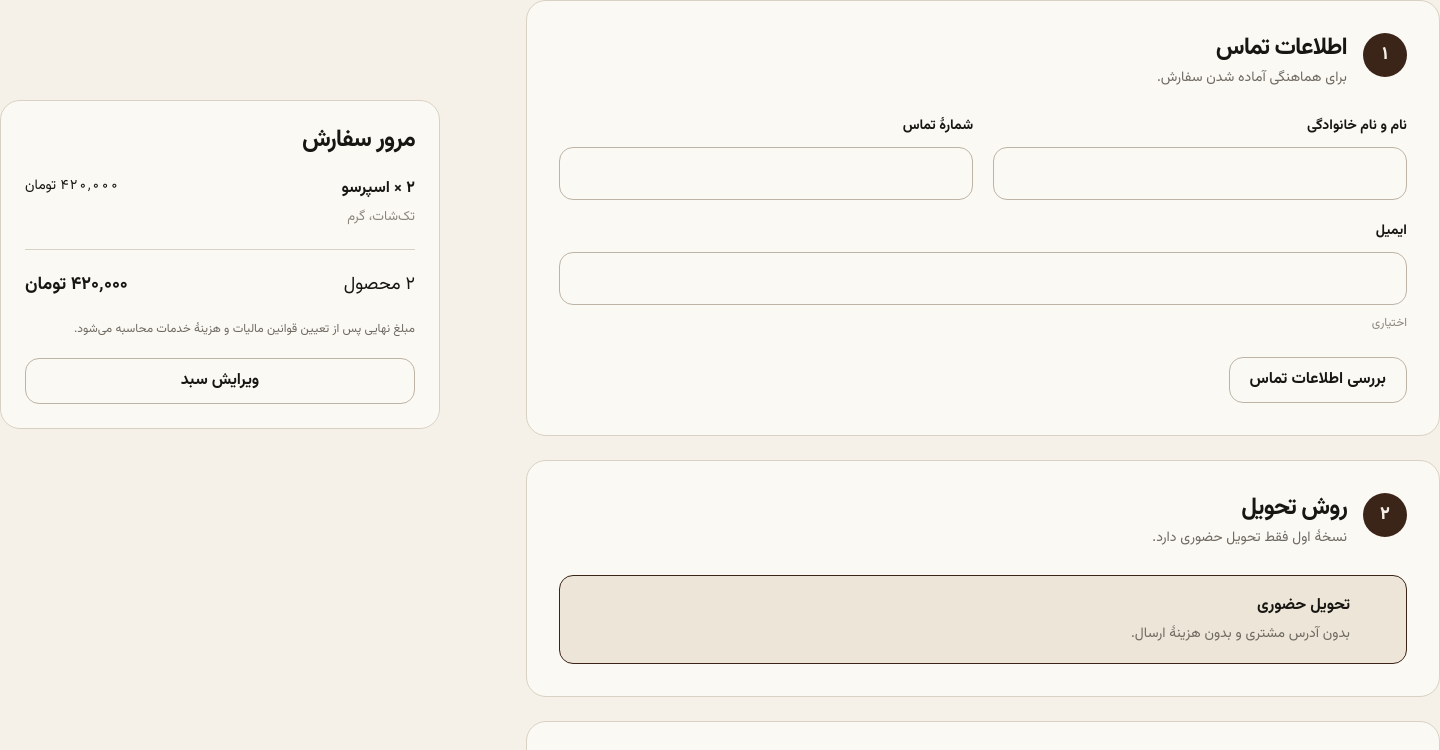
Test case: CheckoutContent › shows accessible field errors for invalid guest contact data
Type "س" into the field labelled "نام و نام خانوادگی" at (1200, 173), box [993, 147, 1407, 200]
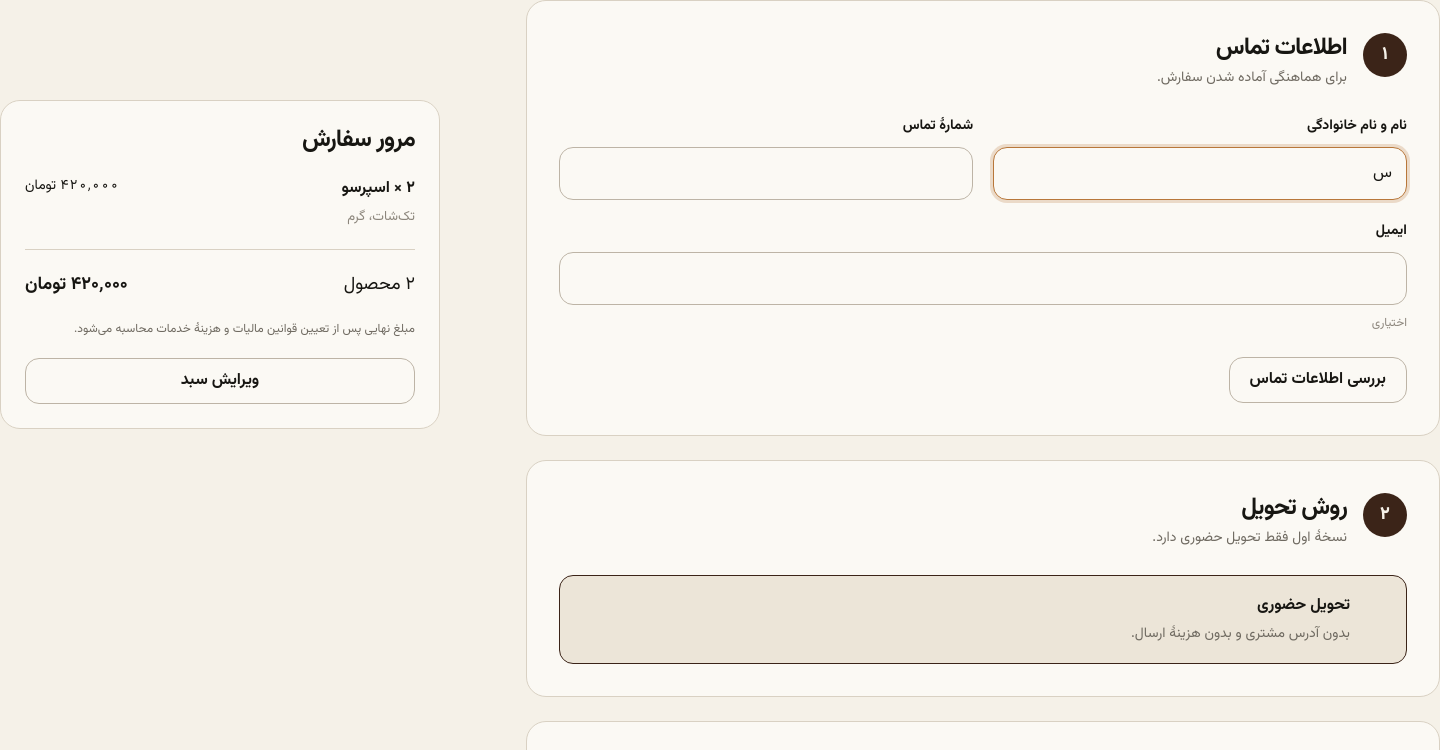
Type "۱۲۳" into the field labelled "شمارهٔ تماس" at (766, 173), box [559, 147, 973, 200]
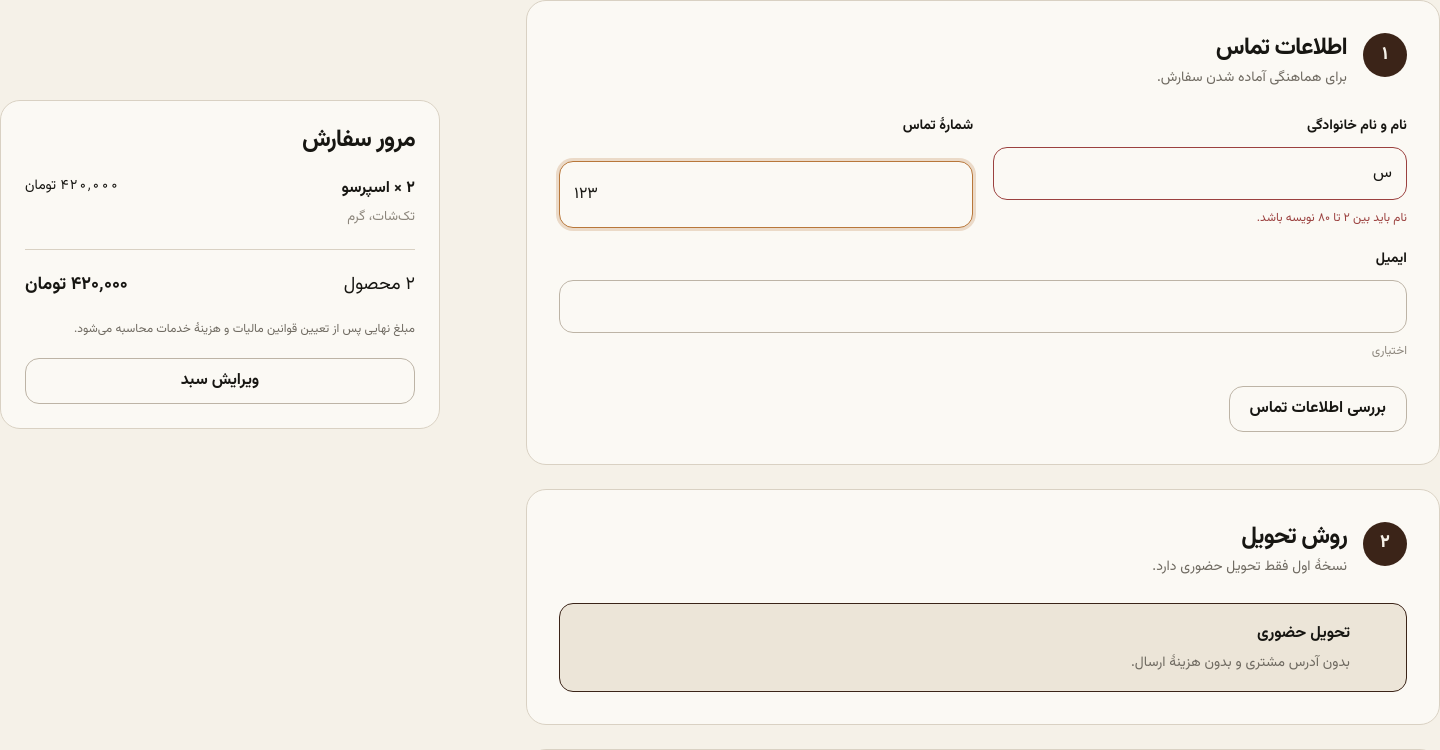
Type "invalid" into the field labelled "ایمیل" at (983, 307), box [559, 280, 1407, 333]
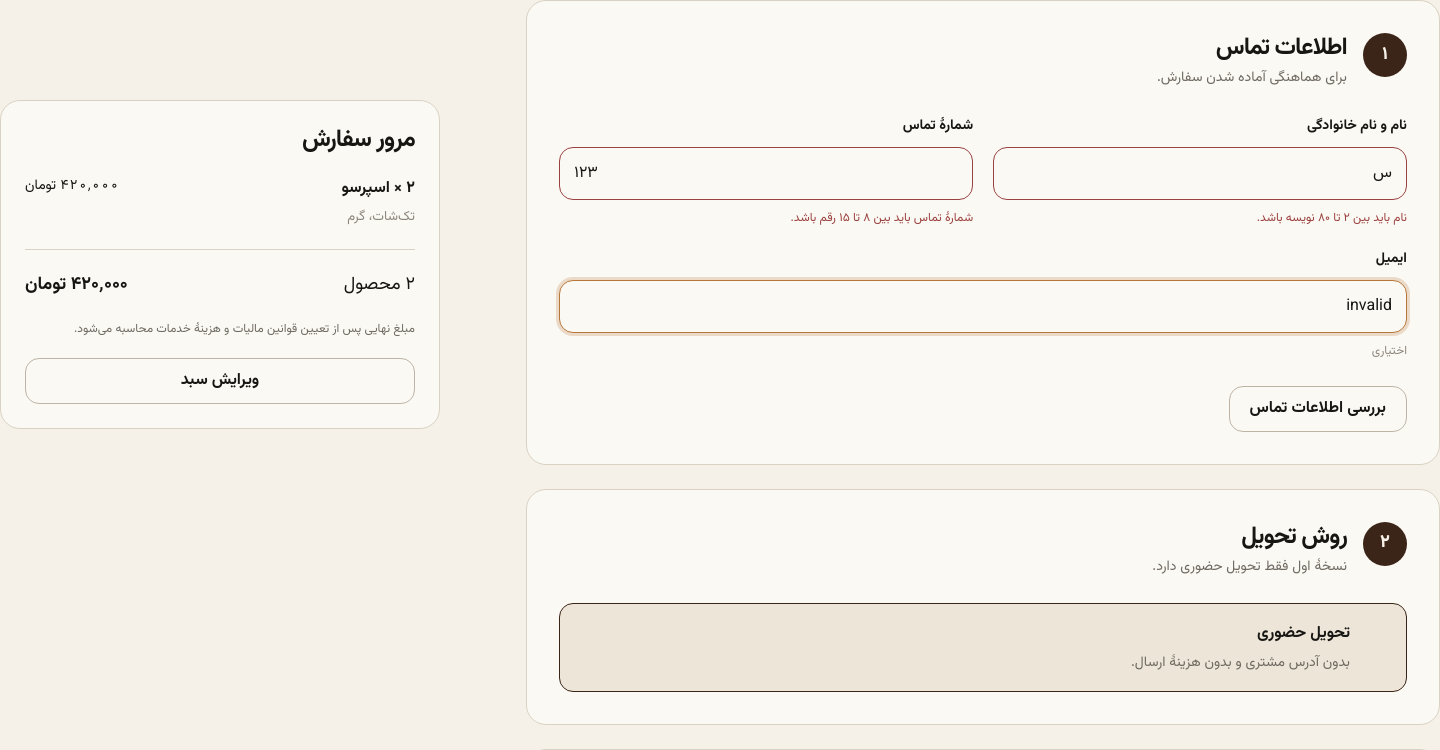
Click the button "بررسی اطلاعات تماس" at (1318, 408), box [1228, 386, 1407, 432]
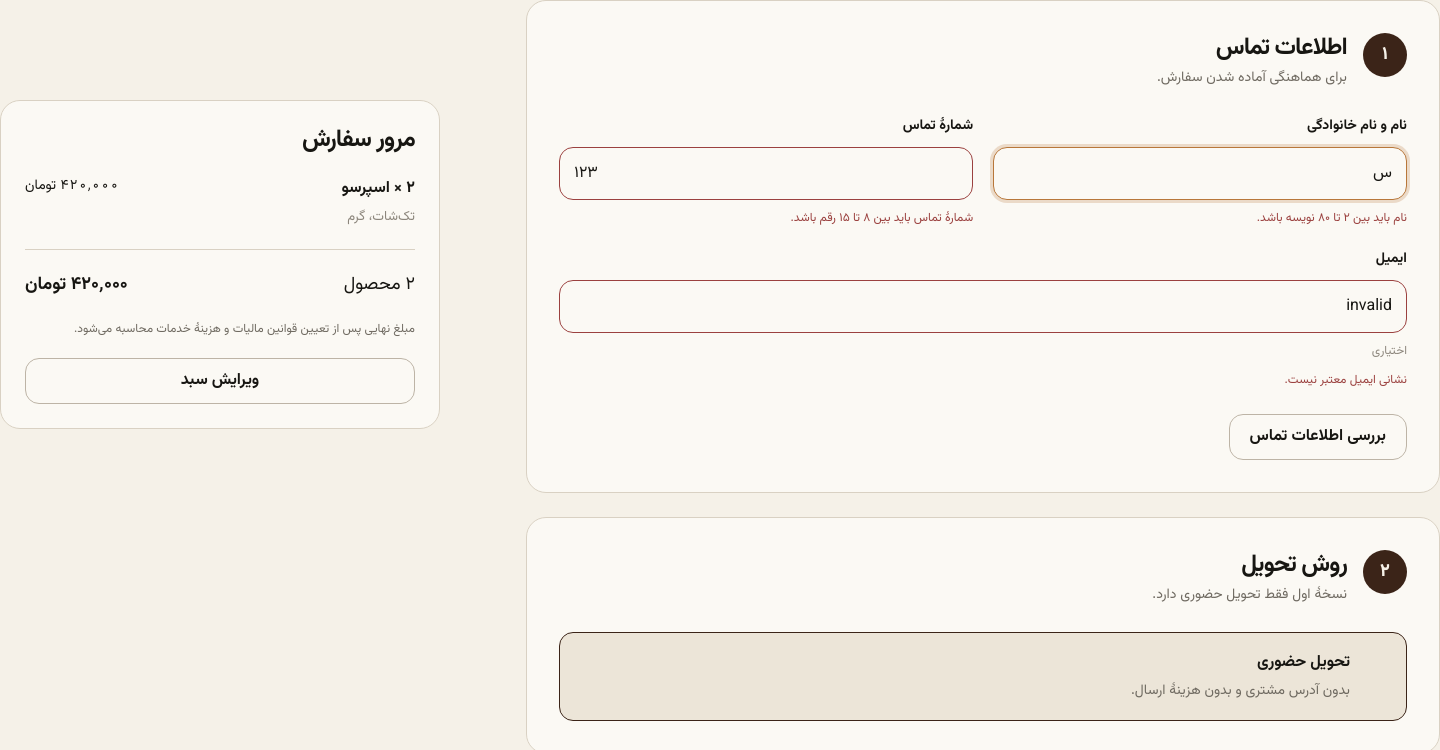
Check: the text "نام باید بین ۲ تا ۸۰ نویسه باشد." is shown, box [1257, 209, 1407, 227]
Check: the text "شمارهٔ تماس باید بین ۸ تا ۱۵ رقم باشد." is shown, box [791, 209, 973, 227]
Check: the text "نشانی ایمیل معتبر نیست." is shown, box [1284, 370, 1407, 388]
